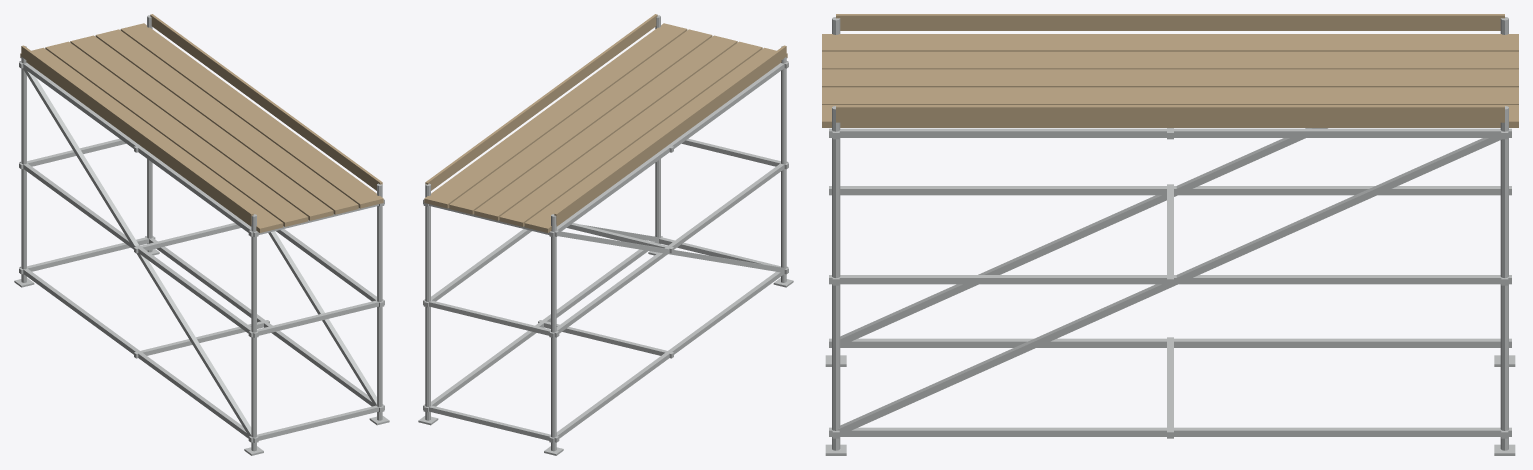
File: dm_scaffoldbay.glb
The picture shows the model from 3 angles, left to right: view 1: azimuth 30°, elevation 25°; view 2: azimuth 150°, elevation 25°; view 3: azimuth 270°, elevation 25°; orthographic projection. The views are drawn at different scales.
Visible parts, largest first — view 1: dm_scaffoldbay; view 2: dm_scaffoldbay; view 3: dm_scaffoldbay.
Part boxes in pixels (x1,y1,x2,y2): dm_scaffoldbay: (14,14,389,455); dm_scaffoldbay: (418,14,793,455); dm_scaffoldbay: (822,14,1518,455).
Size of the model in its own units: 1.65 by 2.72 by 4.96.
